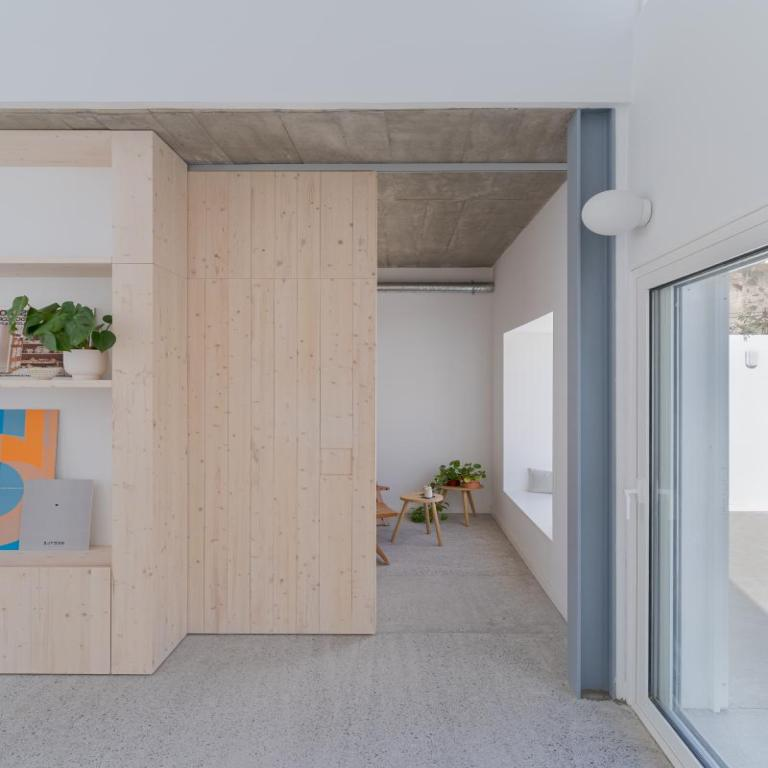white-walls: (10, 20, 745, 186)
